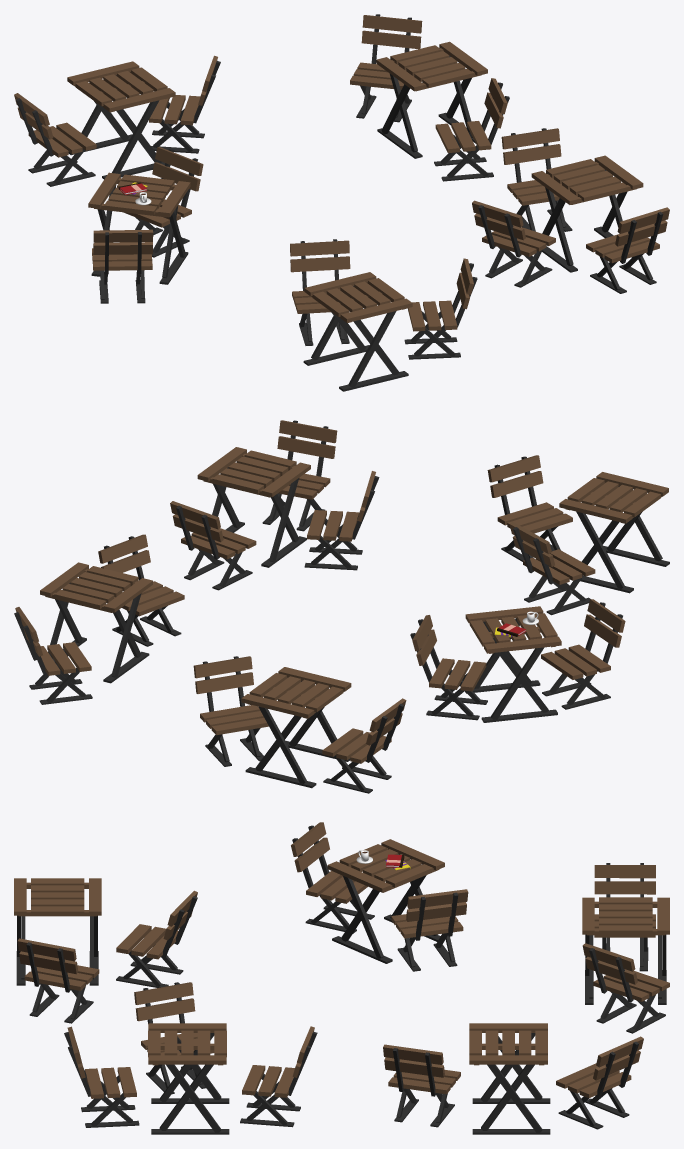
The picture shows the model from 3 angles, top to bottom: view 1: azimuth 30°, elevation 25°; view 2: azimuth 150°, elevation 25°; view 3: azimuth 270°, elevation 25°; orthographic projection. The views are drawn at different scales.
Visible parts, largest first — view 1: Deko_L_Shape arcade O; view 2: Deko_L_Shape arcade O; view 3: Deko_L_Shape arcade O.
Boxes of the visible parts, x1,y1,x2,y2 form: Deko_L_Shape arcade O: [14, 14, 669, 391]; Deko_L_Shape arcade O: [14, 420, 669, 793]; Deko_L_Shape arcade O: [14, 822, 669, 1134].
Bounding box in the file's own units: 6.29 × 1.07 × 7.42.
Materials: 2 (2 with a texture image).
